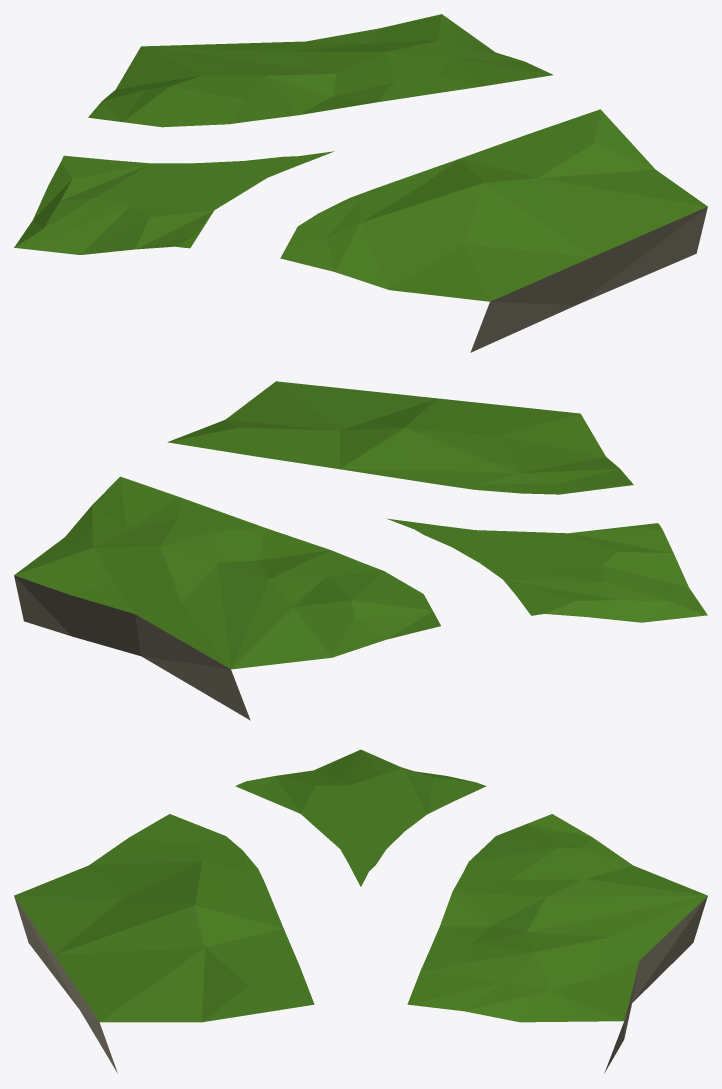
Rendered from land_branch.fbx.
3 views of the same model, one above another, from view 1: azimuth 30°, elevation 25°; view 2: azimuth 150°, elevation 25°; view 3: azimuth 270°, elevation 25° (orthographic).
Parts seen in each view (by area): view 1: branch_land_01; view 2: branch_land_01; view 3: branch_land_01.
Part boxes in pixels (x1=…): branch_land_01: x1=14, y1=14, x2=707, y2=352; branch_land_01: x1=14, y1=381, x2=707, y2=720; branch_land_01: x1=14, y1=749, x2=707, y2=1073.
Bounding box in the file's own units: 0.6988 × 0.105 × 0.7499.
